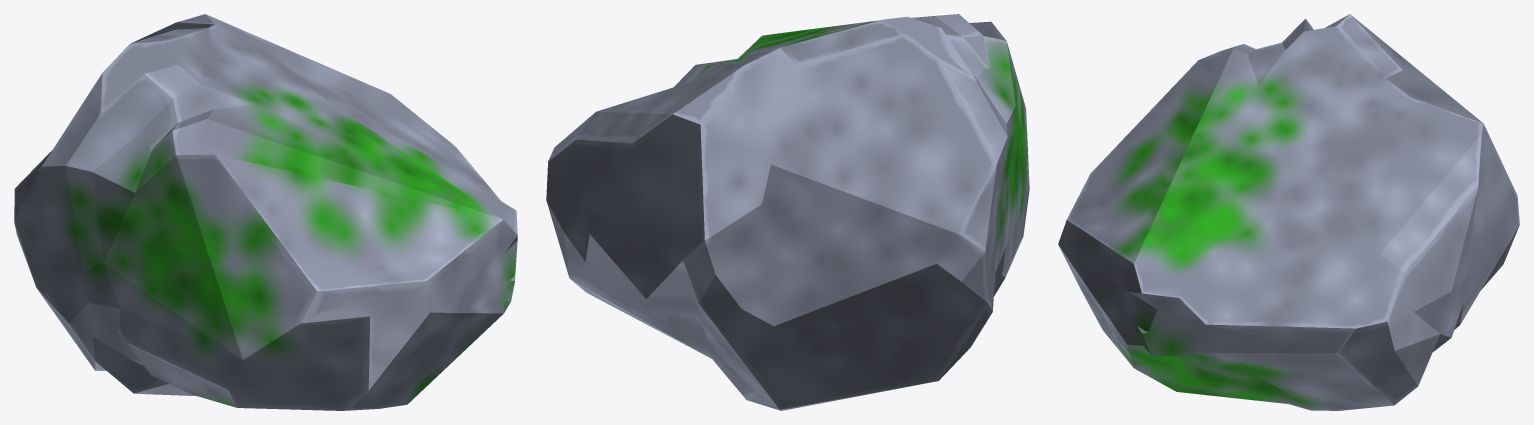
The model's file is rock2.fbx.
3 renders of one model, left to right at view 1: azimuth 30°, elevation 25°; view 2: azimuth 150°, elevation 25°; view 3: azimuth 270°, elevation 25°, orthographic. The views are drawn at different scales.
Parts seen in each view (by area): view 1: Cube.001; view 2: Cube.001; view 3: Cube.001.
Boxes of the visible parts, x1=… form: Cube.001: x1=14, y1=14, x2=517, y2=410; Cube.001: x1=546, y1=14, x2=1029, y2=410; Cube.001: x1=1058, y1=14, x2=1519, y2=410.
Bounding box in the file's own units: 705 × 584 × 730.
